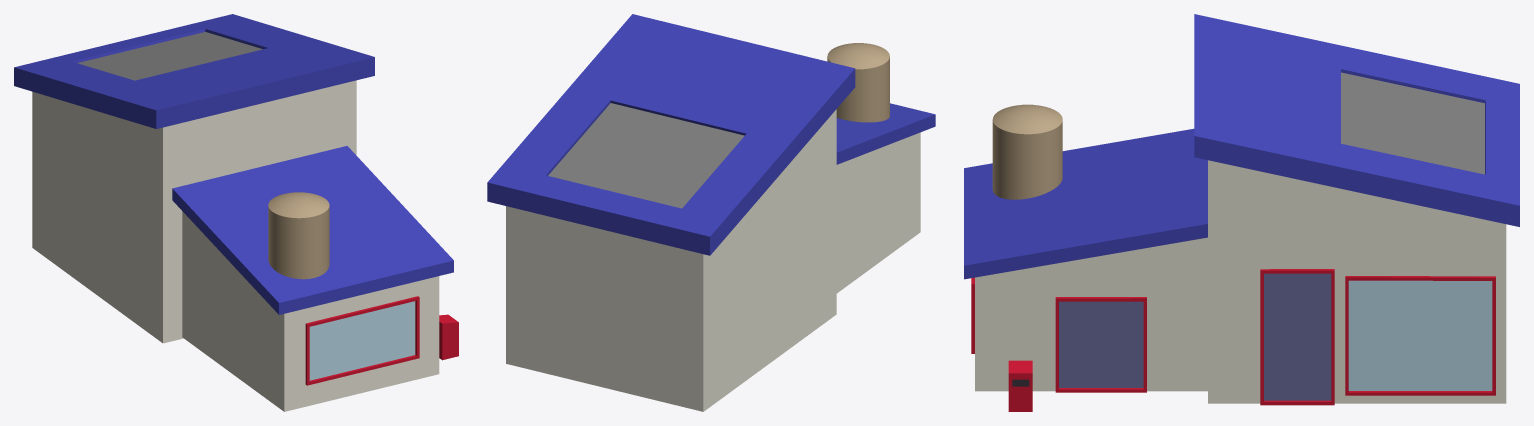
The model's file is 建筑物5.fbx.
3 renders of one model, left to right at view 1: azimuth 30°, elevation 25°; view 2: azimuth 150°, elevation 25°; view 3: azimuth 270°, elevation 25°, orthographic. The views are drawn at different scales.
Parts seen in each view (by area): view 1: 桶2_1; view 2: 桶2_1; view 3: 桶2_1.
Part boxes in pixels (x1,y1,x2,y2): 桶2_1: [14, 14, 458, 411]; 桶2_1: [487, 14, 935, 411]; 桶2_1: [964, 14, 1519, 411].
Bounding box in the file's own units: 833 × 865 × 1586.
